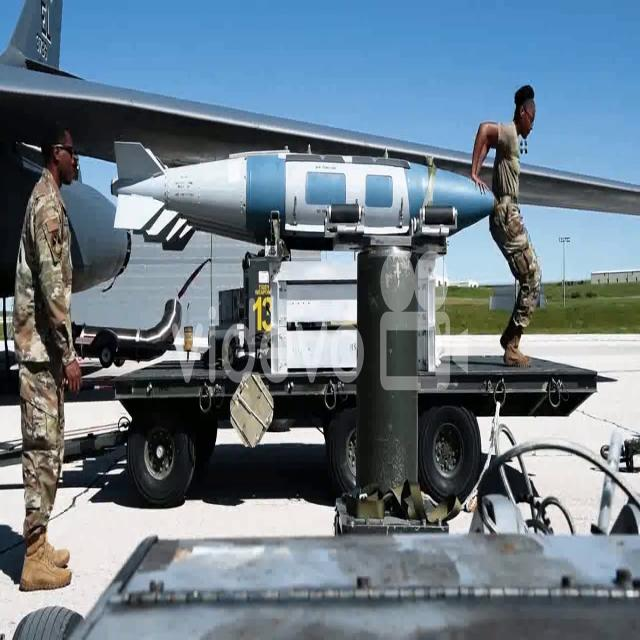rocket: (115, 126, 501, 234)
